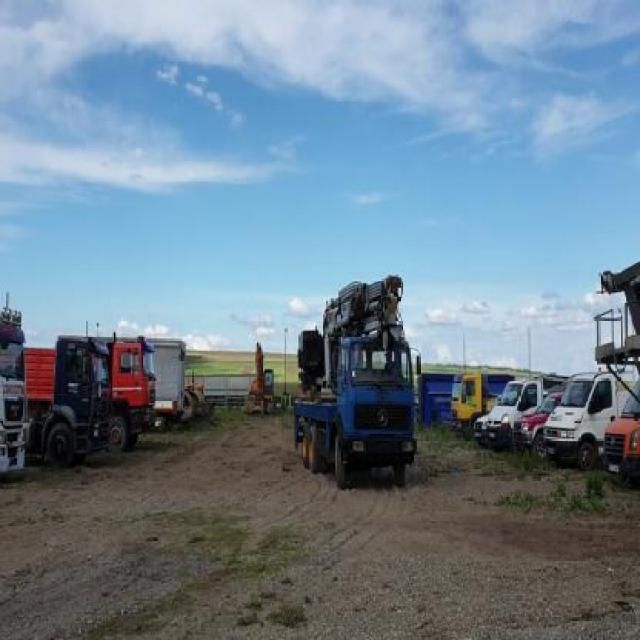Mobile Crane: (294, 276, 418, 487)
